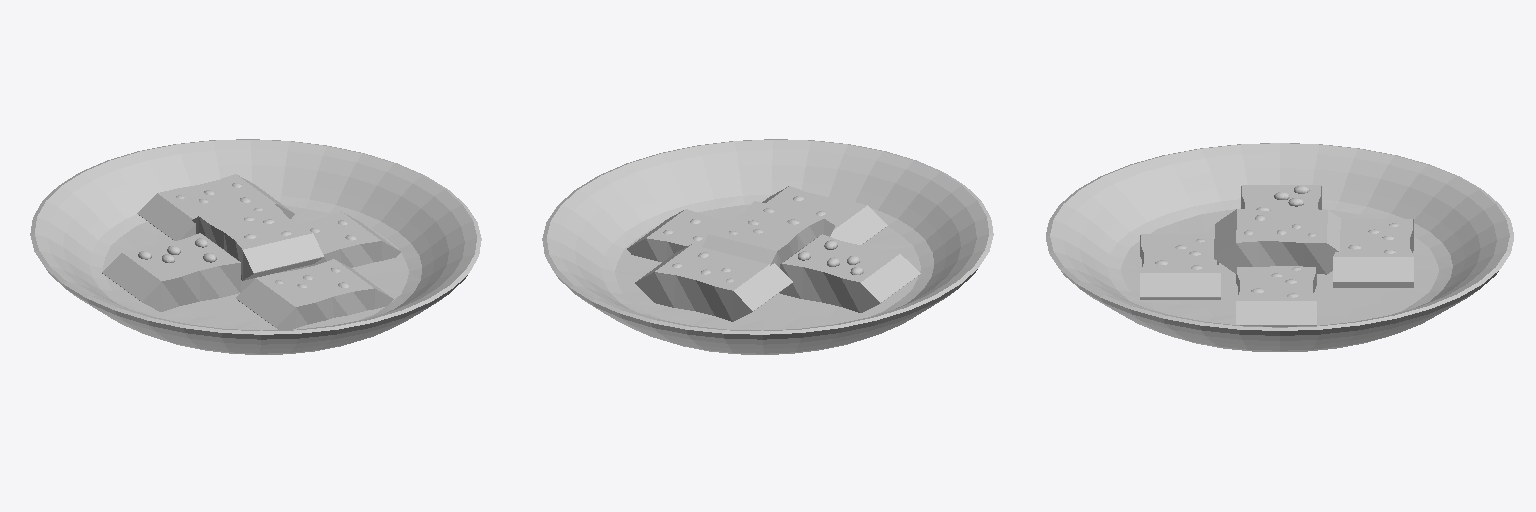
File: kue cantik manis.obj
The picture shows the model from 3 angles: view 1: azimuth 30°, elevation 25°; view 2: azimuth 150°, elevation 25°; view 3: azimuth 270°, elevation 25°; orthographic projection.
Visible parts, largest first — view 1: Cylinder, Cube, Cube.001, Cube.004, Cube.002, Cube.003; view 2: Cylinder, Cube.002, Cube, Cube.004, Cube.001, Cube.003; view 3: Cylinder, Cube.004, Cube.002, Cube.001, Cube.003, Cube.
Boxes of the visible parts, x1,y1,x2,y2 form: Cylinder: [30, 139, 481, 354]; Cube: [102, 233, 254, 311]; Cube.001: [236, 259, 393, 329]; Cube.004: [192, 200, 323, 280]; Cube.002: [137, 174, 294, 240]; Cube.003: [274, 211, 400, 273]; Cylinder: [542, 139, 993, 354]; Cube.002: [635, 243, 792, 321]; Cube: [779, 234, 920, 312]; Cube.004: [702, 201, 834, 267]; Cube.001: [762, 186, 887, 244]; Cube.003: [627, 209, 728, 261]; Cylinder: [1046, 143, 1513, 351]; Cube.004: [1214, 209, 1341, 274]; Cube.002: [1333, 219, 1413, 287]; Cube.001: [1140, 234, 1220, 299]; Cube.003: [1236, 266, 1316, 326]; Cube: [1241, 185, 1321, 210].
Size of the model in its own units: 1.51 by 0.2407 by 1.59.